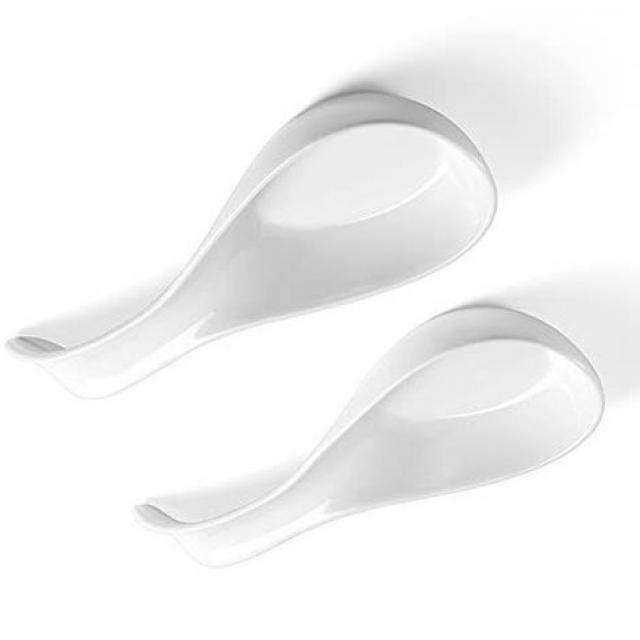spoon: (119, 300, 609, 570)
